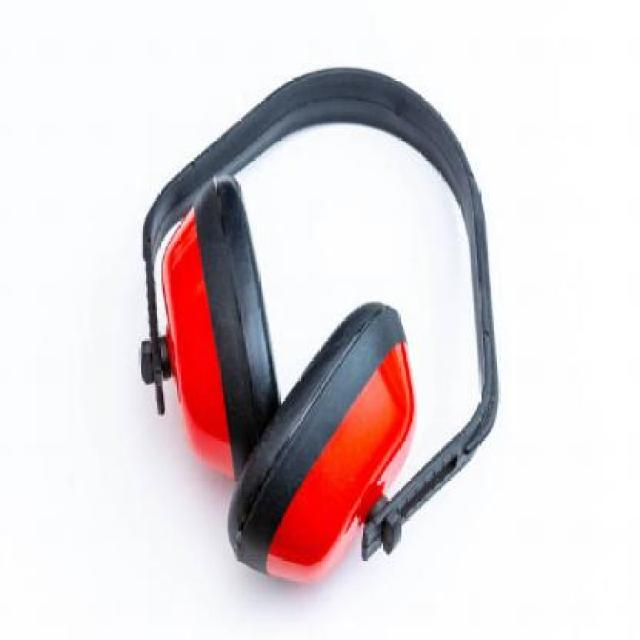Ear-protection: (119, 71, 531, 555)
